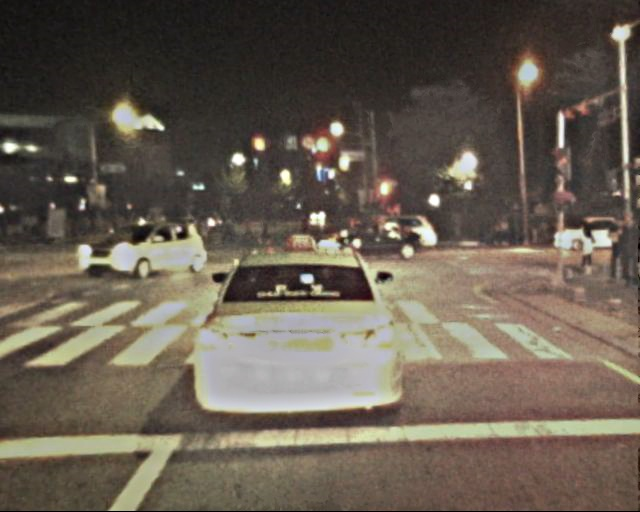person: (604, 222, 630, 285), (188, 208, 230, 241), (577, 223, 599, 276), (496, 216, 513, 248), (294, 213, 309, 249), (255, 212, 270, 248), (238, 210, 252, 245)
